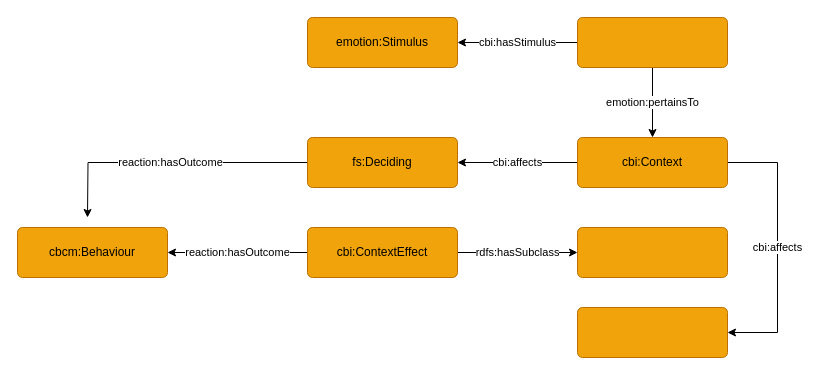
Image size: 819x375. Some labels were removed from this diagram. Here are the shapes that lost their labels. From the top down, the centre of each, then its label:
At (x=652, y=42): "dul:Situation".
At (x=652, y=252): "cbi:CognitiveBias".
At (x=652, y=332): "sio:SIO_000379".
